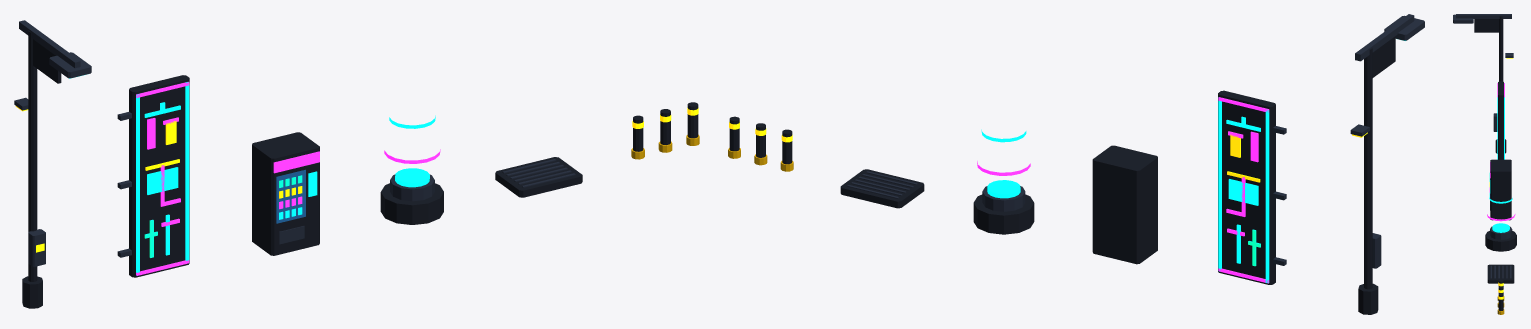
File: street_props.glb
3 views of the same model, side by side, from view 1: azimuth 30°, elevation 25°; view 2: azimuth 150°, elevation 25°; view 3: azimuth 270°, elevation 25° (orthographic). The views are drawn at different scales.
Parts seen in each view (by area): view 1: neon_sign_kanji, vending_machine, street_lamp, holo_projector, steam_vent, bollards_barrier; view 2: neon_sign_kanji, vending_machine, street_lamp, holo_projector, steam_vent, bollards_barrier; view 3: vending_machine, street_lamp, holo_projector, neon_sign_kanji, steam_vent, bollards_barrier.
Part boxes in pixels (<box>): neon_sign_kanji: <box>117,75,189,277</box>; vending_machine: <box>252,132,319,255</box>; street_lamp: <box>14,20,91,308</box>; holo_projector: <box>380,115,443,224</box>; steam_vent: <box>495,157,582,197</box>; bollards_barrier: <box>631,102,699,159</box>; neon_sign_kanji: <box>1218,90,1286,284</box>; vending_machine: <box>1092,145,1157,264</box>; street_lamp: <box>1350,14,1424,314</box>; holo_projector: <box>973,129,1034,234</box>; steam_vent: <box>840,169,924,208</box>; bollards_barrier: <box>728,116,793,171</box>; vending_machine: <box>1489,159,1511,220</box>; street_lamp: <box>1453,14,1513,153</box>; holo_projector: <box>1485,197,1516,251</box>; neon_sign_kanji: <box>1497,81,1504,159</box>; steam_vent: <box>1487,264,1514,283</box>; bollards_barrier: <box>1497,279,1504,314</box>.
Size of the model in its own units: 16.07 by 6.24 by 2.62.
